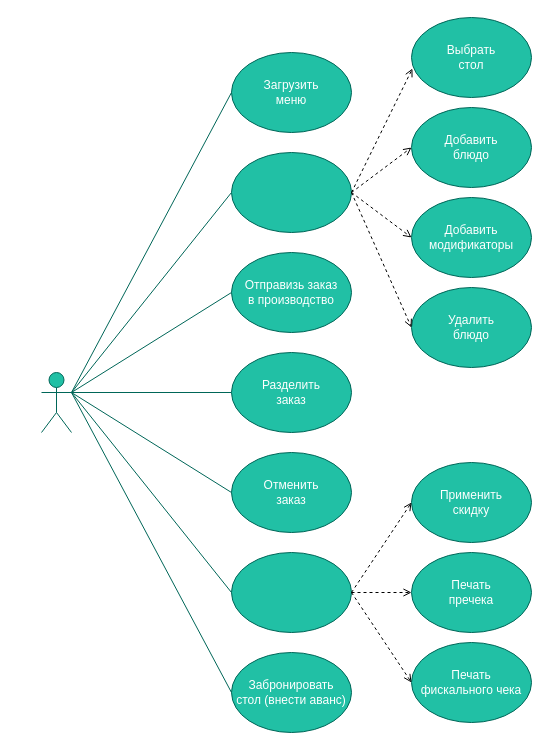
Image size: 549x750. Some labels were removed from this diagram. Each missing label, with the box of its shape:
Оплатить заказ: (230, 552, 352, 632)
Пользователь: (40, 372, 72, 432)
Создать новый заказ: (230, 152, 352, 232)
